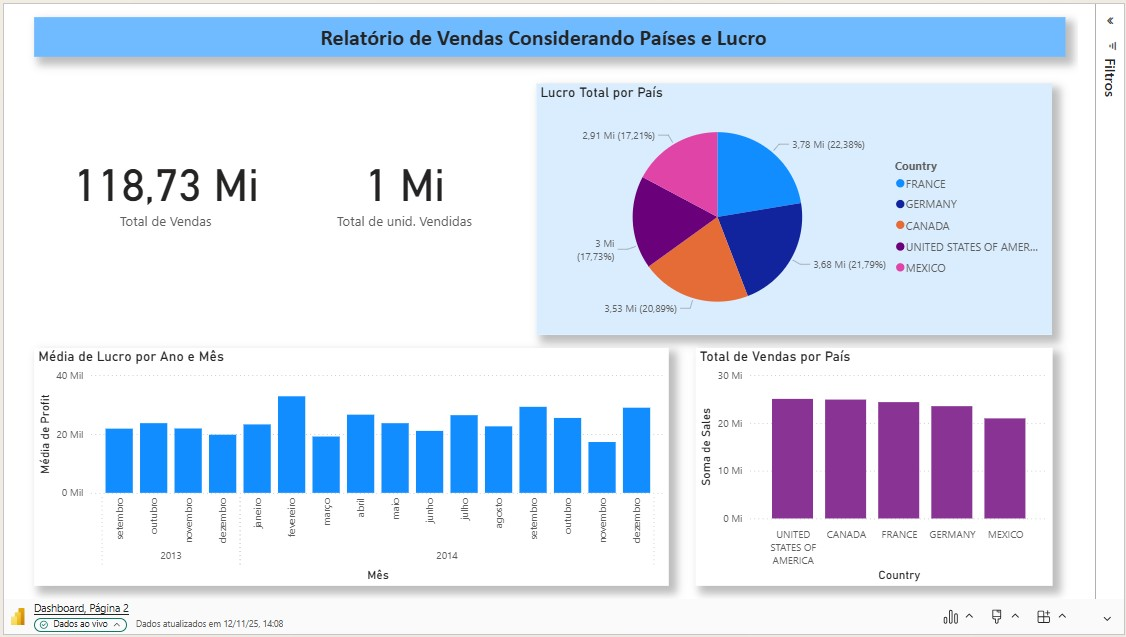

The page's visual inventory and layout, read from the dashboard file:
{"tool":"powerbi","page":{"name":"Página 2","canvas":[1280,720],"ordinal":1},"visuals":[{"type":"textbox","box":[16,16,1248,48],"z":0},{"type":"card","fields":{"Values":["Sum(financials.Sales)"]},"box":[48,144,256,160],"z":1000},{"type":"card","fields":{"Values":["Sum(financials.Units Sold)"]},"box":[368,144,192,160],"z":2000},{"type":"pieChart","title":"Lucro Total por País","fields":{"Y":["Sum(financials.Profit)"],"Category":["financials.Country"]},"box":[624,96,624,304],"z":3000},{"type":"clusteredColumnChart","title":"Média de Lucro por Ano e Mês","fields":{"Y":["Avg(financials.Profit)"],"Category":["financials.Date.Variation.Hierarquia de datas.Ano","financials.Date.Variation.Hierarquia de datas.Mês"]},"box":[16,416,768,288],"z":4000},{"type":"clusteredColumnChart","title":"Total de Vendas por País","fields":{"Category":["financials.Country"],"Y":["Sum(financials.Sales)"]},"box":[816,416,432,288],"z":5000}]}

Visuals, with their boxes on the page's 1280x720 design canvas (x1, y1, x2, y2). These are canvas units, not pixel positions in the 1126x637 screenshot, which may show the page scaled, cropped or inside an application window:
textbox: left=16, top=16, right=1264, bottom=64
card - Sum(financials.Sales): left=48, top=144, right=304, bottom=304
card - Sum(financials.Units Sold): left=368, top=144, right=560, bottom=304
"Lucro Total por País" pieChart: left=624, top=96, right=1248, bottom=400
"Média de Lucro por Ano e Mês" clusteredColumnChart: left=16, top=416, right=784, bottom=704
"Total de Vendas por País" clusteredColumnChart: left=816, top=416, right=1248, bottom=704
